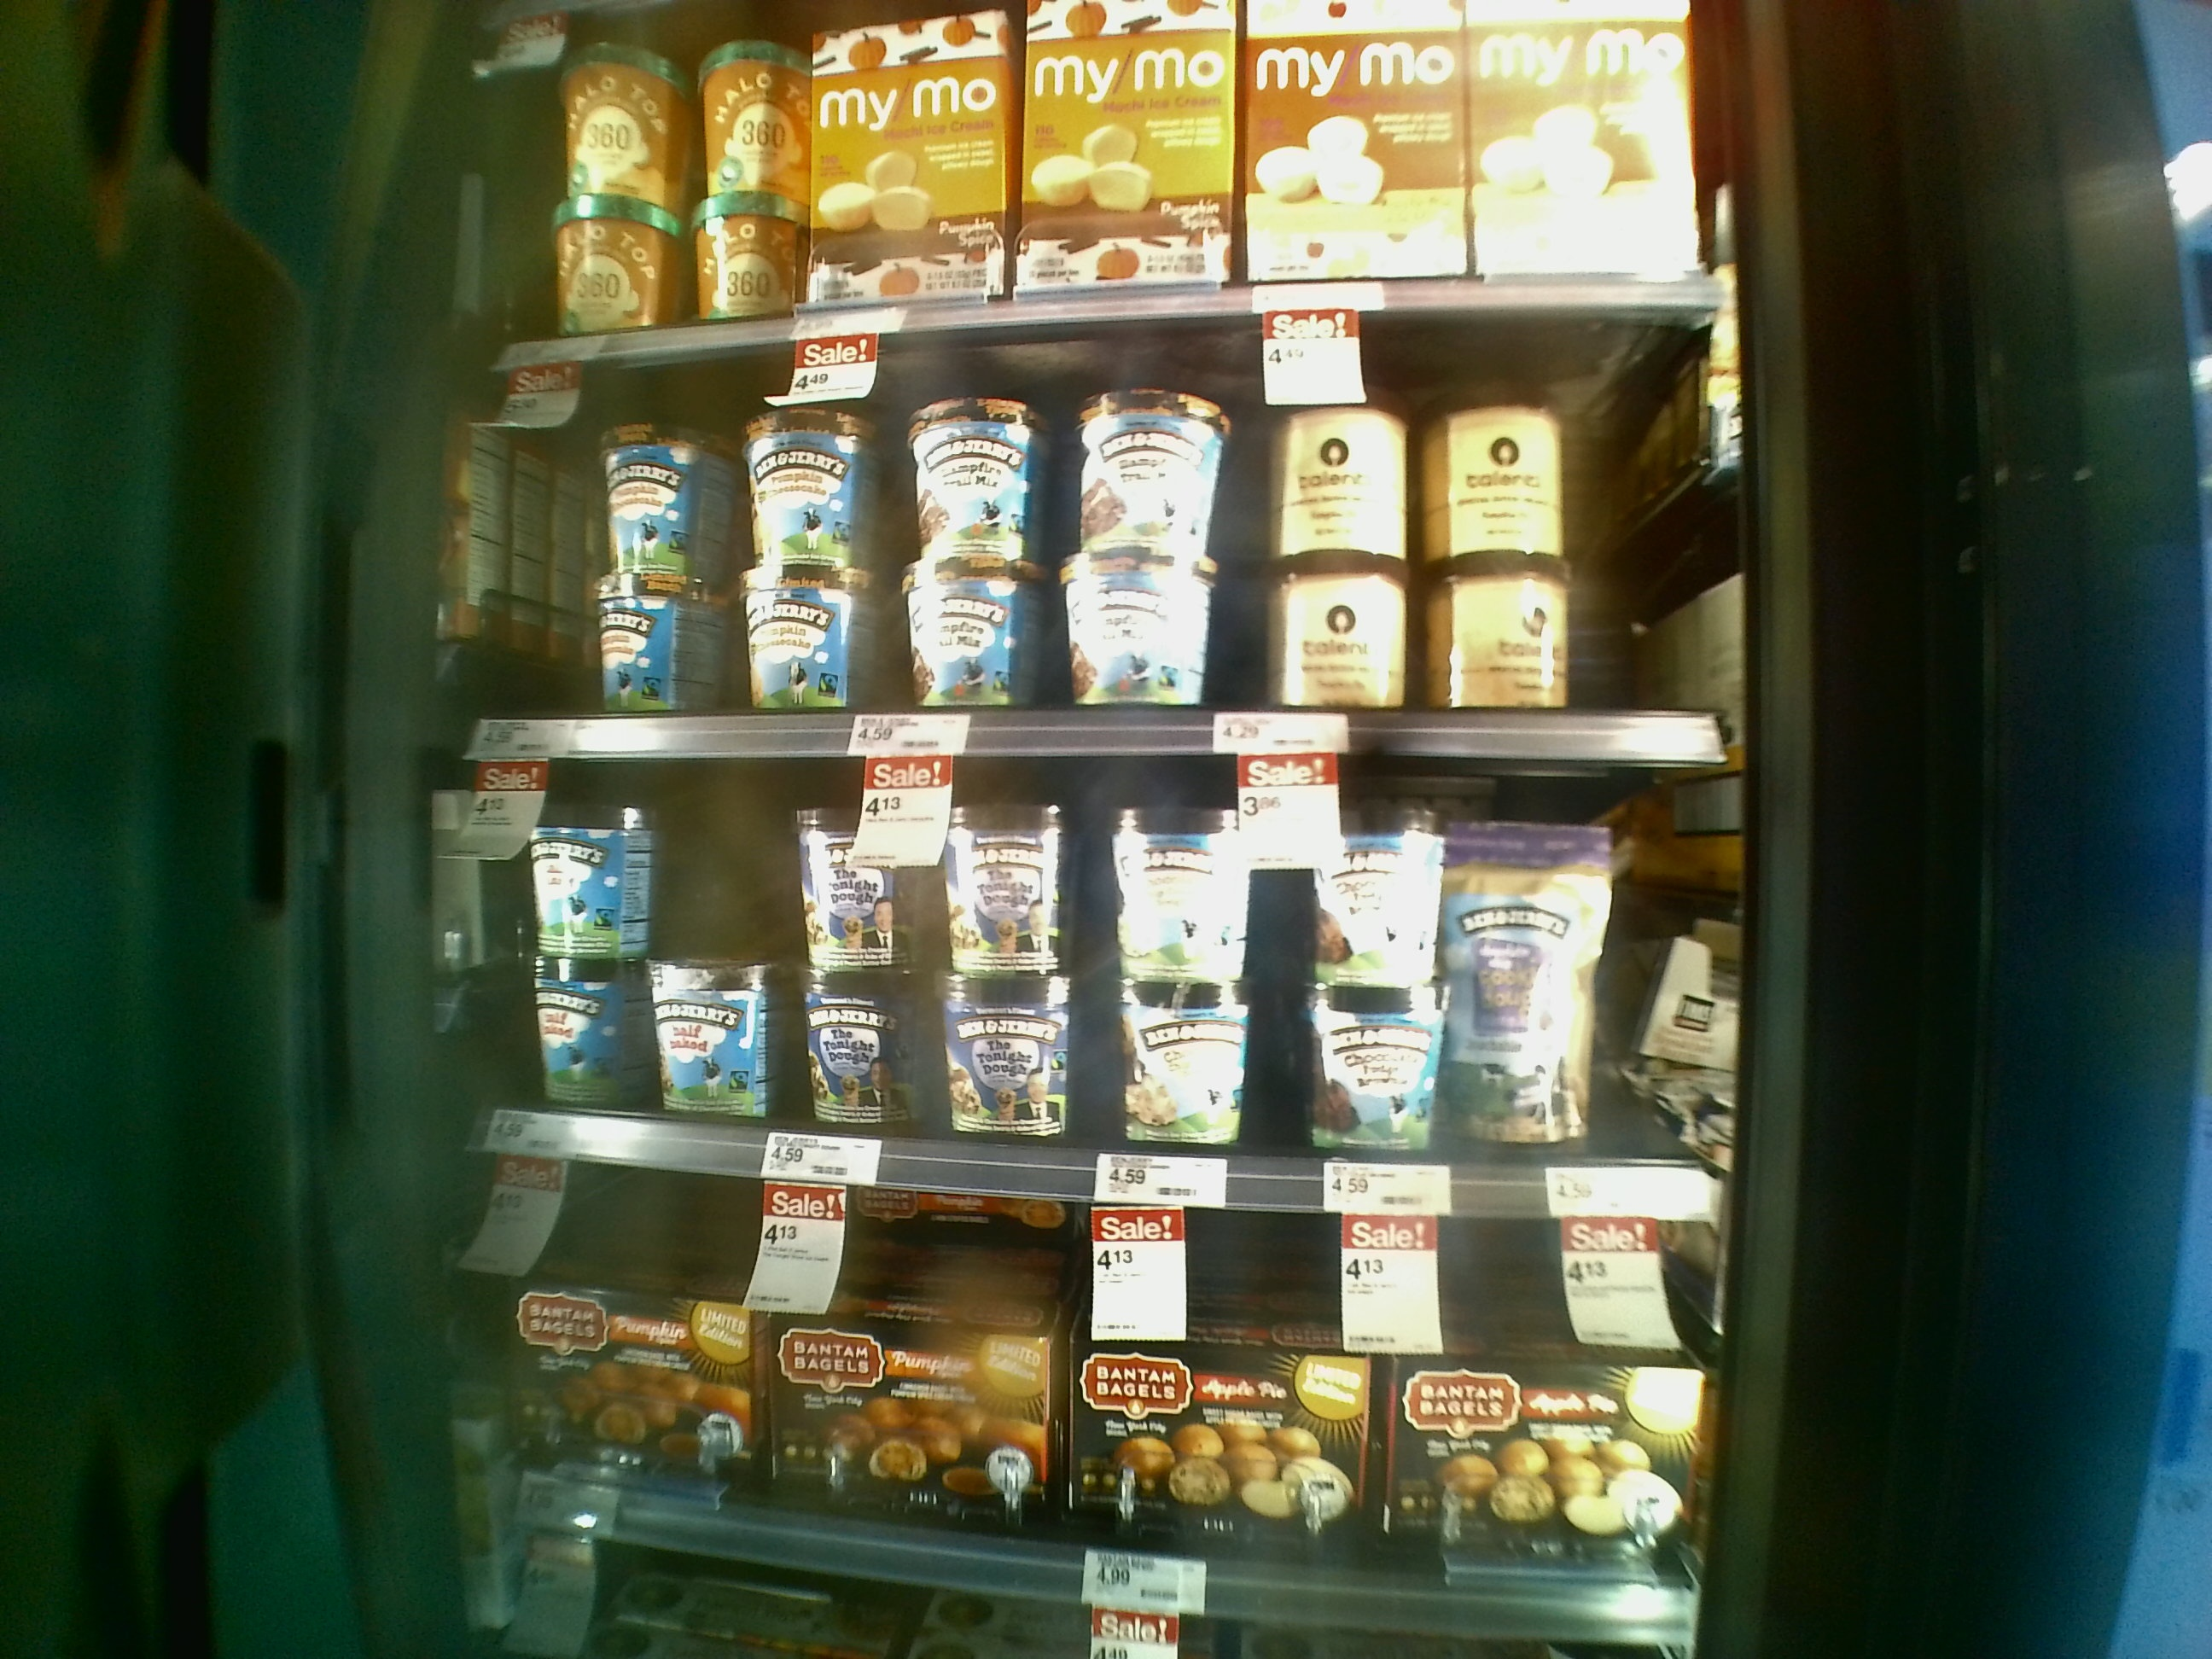shelf: (404, 1154, 1749, 1652), (430, 732, 1737, 1230), (446, 342, 1740, 769)
